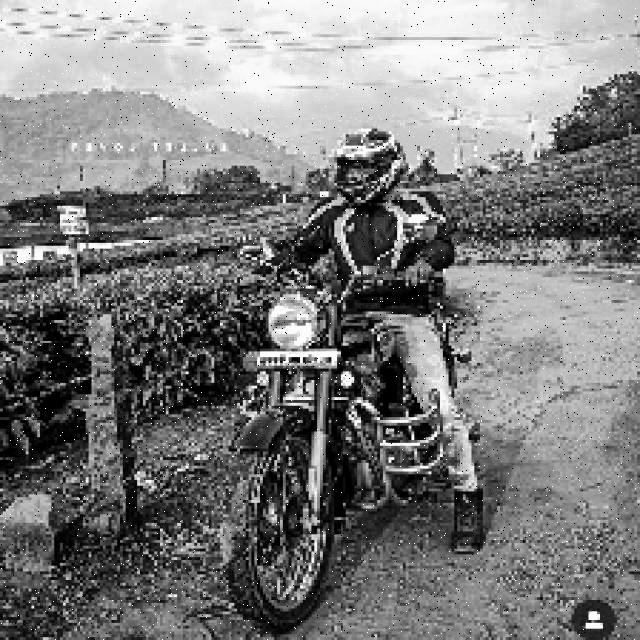Bike: (232, 257, 446, 627)
